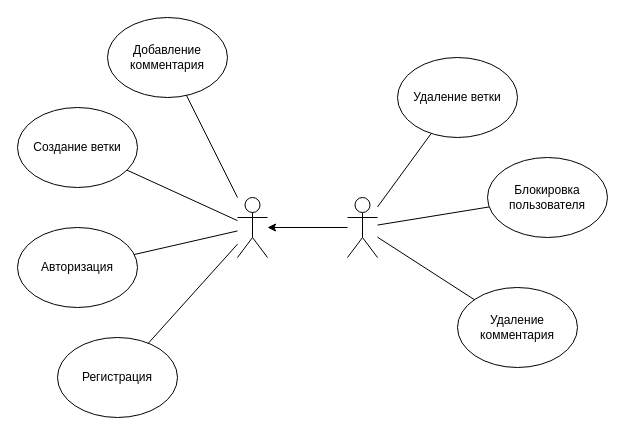
The diagram is 625 pixels wide and 435 high, and some of its shapes have lost their labels. Here are the shapes that lost their labels. From the top down, the centre of each, then its label:
At [252,227]: "Пользователь".
At [362,227]: "Администратор".
